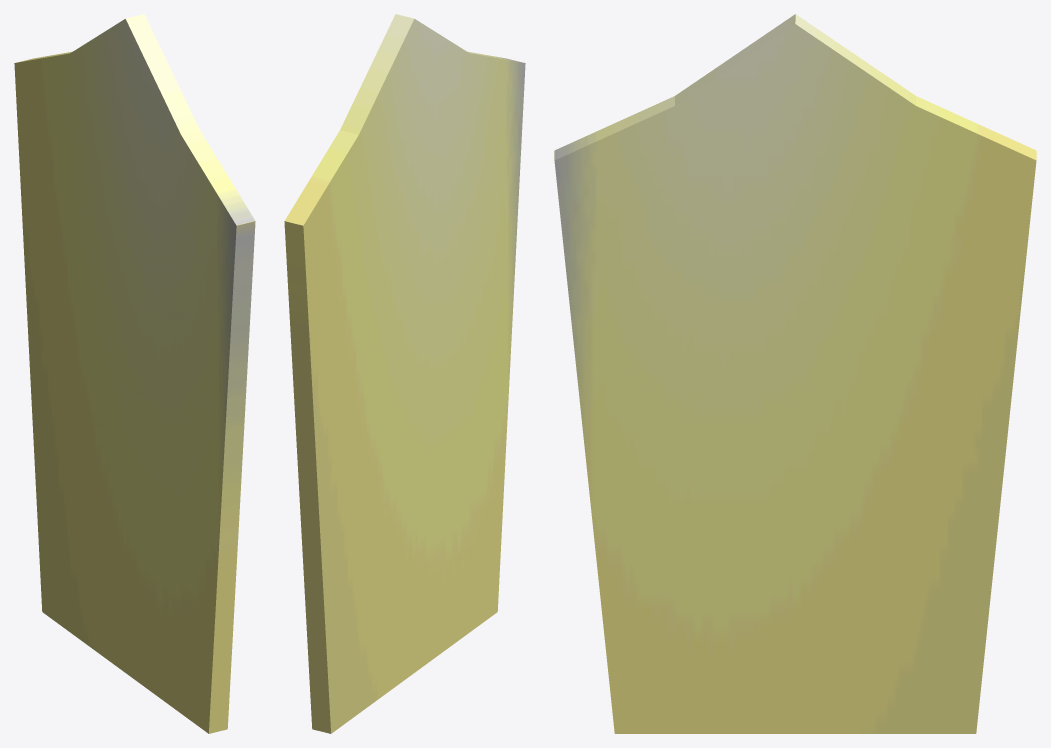
Rendered from WINDOW_JUWELLIER_Class2_2902.glb.
The picture shows the model from 3 angles, left to right: view 1: azimuth 30°, elevation 25°; view 2: azimuth 150°, elevation 25°; view 3: azimuth 270°, elevation 25°; orthographic projection. The views are drawn at different scales.
Parts seen in each view (by area): view 1: Line004; view 2: Line004; view 3: Line004.
Boxes of the visible parts, box(x1,y1,x2,y2) form: Line004: box(14, 14, 255, 733); Line004: box(284, 14, 525, 733); Line004: box(554, 14, 1036, 733).
Bounding box in the file's own units: 0.00728 × 0.2403 × 0.1479.
Materials: 1 (1 with a texture image).
